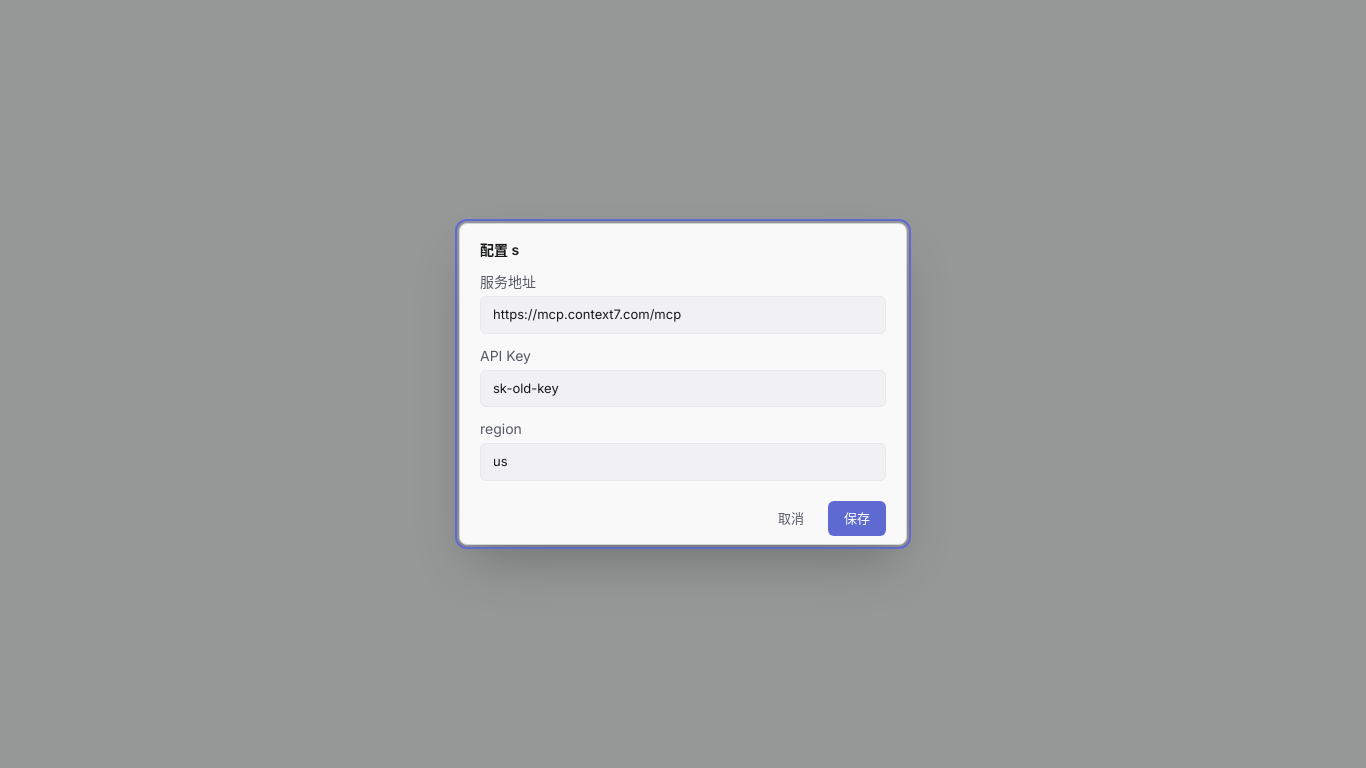
Scenario: McpConfigDialog — 提交闭环 / 锁定 › 提交锁定期 → 输入与按钮全部禁用（防双击 + Esc/遮罩 no-op）
This screenshot has width=1366, height=768.
Check: the field labelled "API Key" is shown, box [480, 370, 886, 407]
Click the button "保存" at (857, 518), box [828, 500, 886, 536]
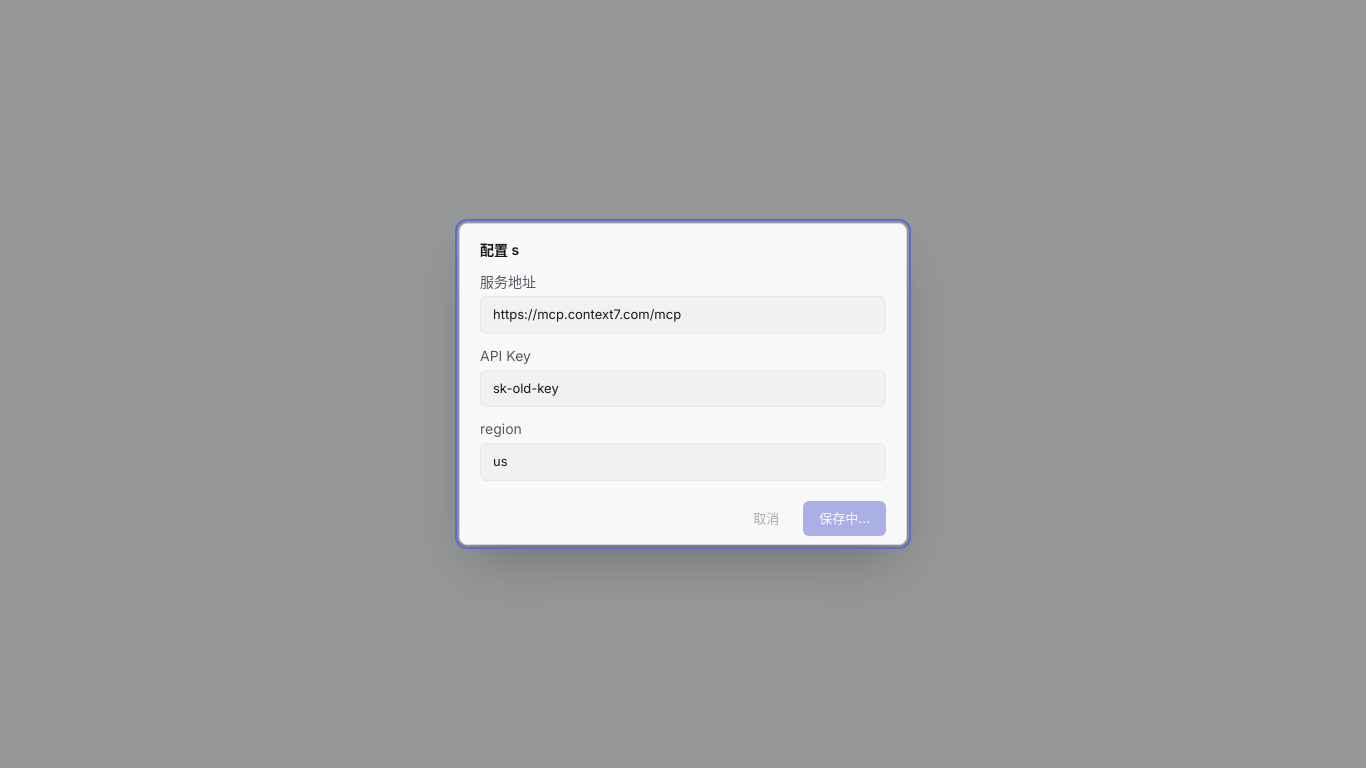
Check: the field labelled "服务地址" is disabled, box [480, 296, 886, 334]
Check: the button "保存中…" is disabled, box [803, 500, 886, 536]
Check: the button "取消" is disabled, box [737, 500, 795, 536]
